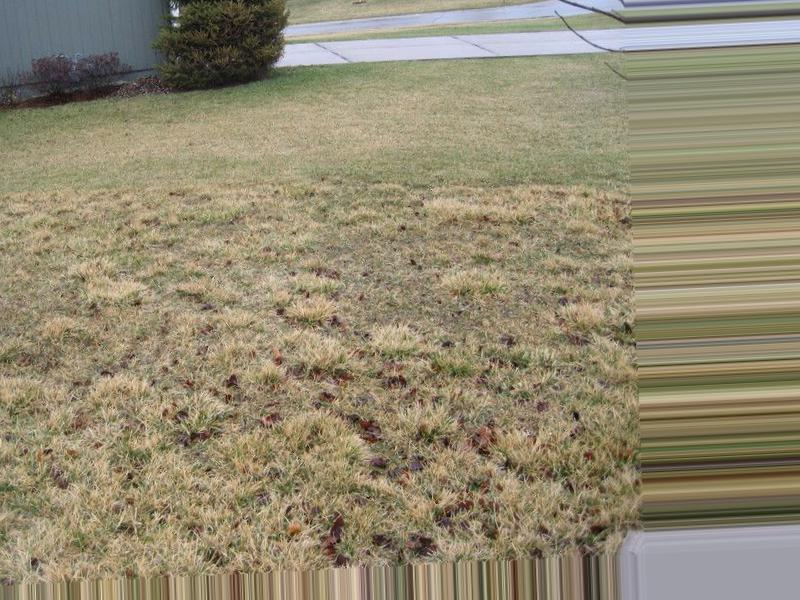patch: (313, 189, 619, 527), (16, 209, 294, 522), (60, 126, 224, 163), (260, 106, 423, 139), (452, 67, 539, 123)
